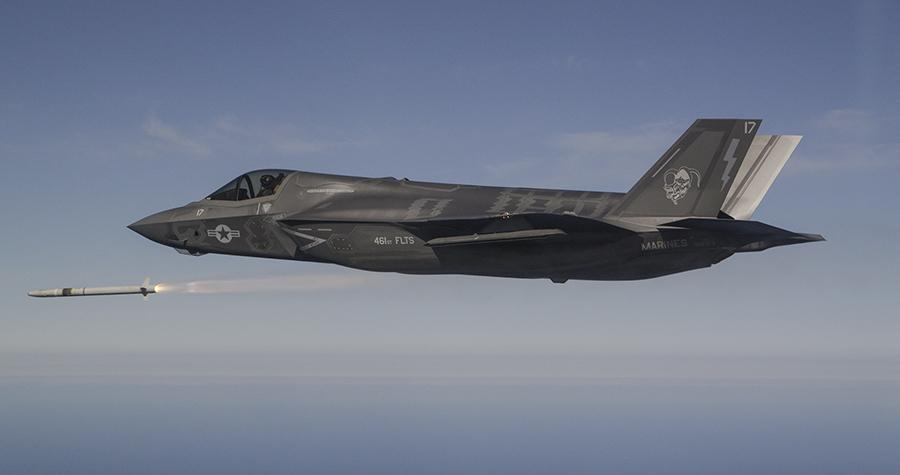F-35 Lightning: (110, 106, 833, 334)
